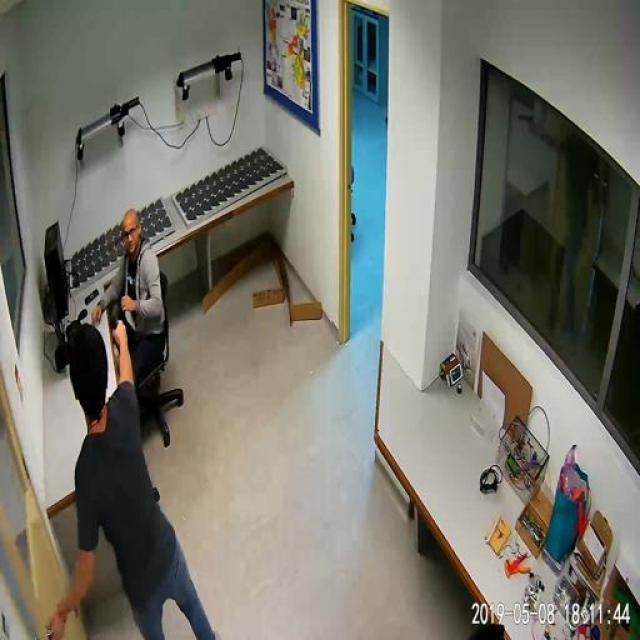Gun: (94, 298, 134, 332)
